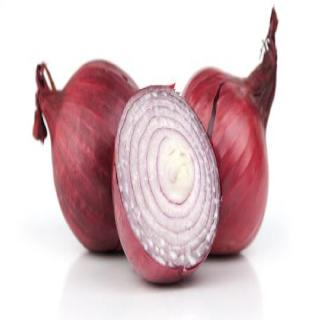Bawang Merah: (33, 6, 280, 285), (182, 6, 280, 257), (111, 83, 223, 285), (33, 58, 140, 255)
